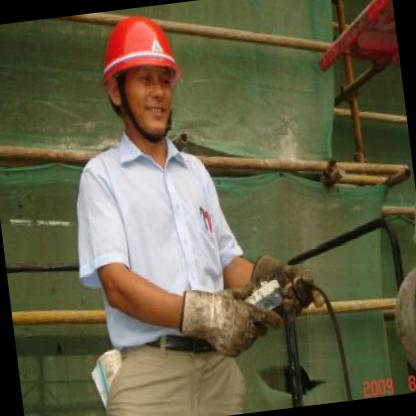bee: (77, 2, 202, 160)
